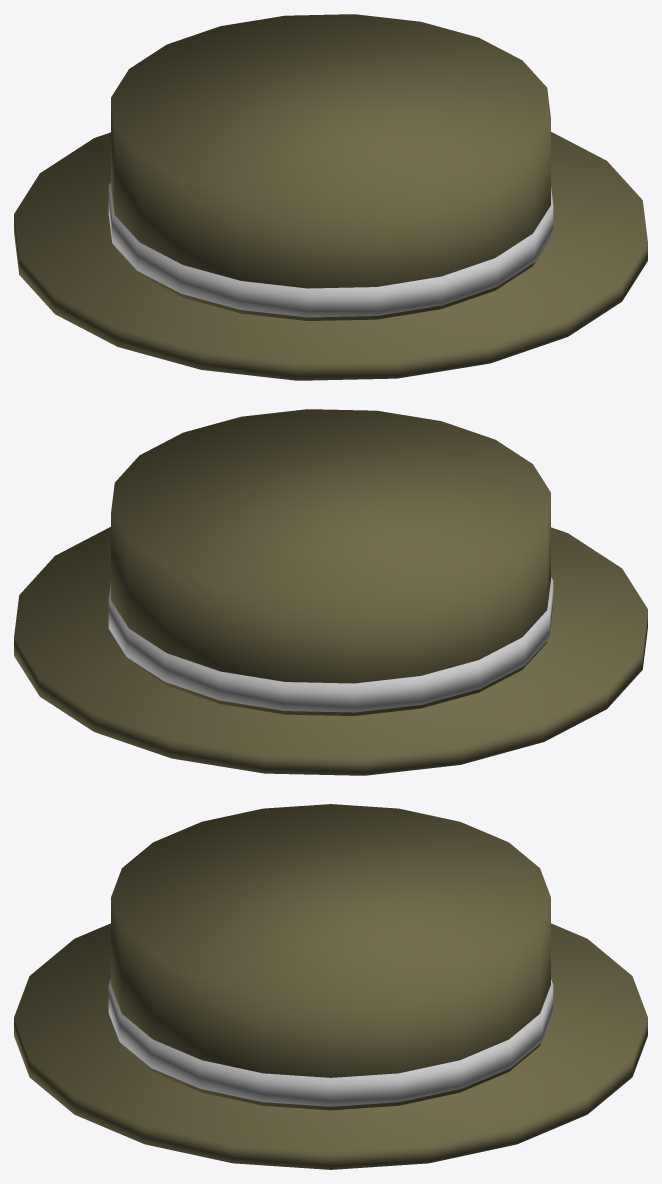
Rendered from Boonie_Red.fbx.
The picture shows the model from 3 angles, top to bottom: view 1: azimuth 30°, elevation 25°; view 2: azimuth 150°, elevation 25°; view 3: azimuth 270°, elevation 25°; orthographic projection.
Parts seen in each view (by area): view 1: Crown, Brim, TeamBand; view 2: Crown, Brim, TeamBand; view 3: Crown, Brim, TeamBand.
Part boxes in pixels (x1=…): Crown: x1=111, y1=14, x2=550, y2=320; Brim: x1=14, y1=132, x2=647, y2=380; TeamBand: x1=108, y1=182, x2=553, y2=317; Crown: x1=111, y1=409, x2=550, y2=715; Brim: x1=14, y1=527, x2=647, y2=775; TeamBand: x1=108, y1=577, x2=553, y2=712; Crown: x1=111, y1=804, x2=550, y2=1110; Brim: x1=14, y1=923, x2=647, y2=1169; TeamBand: x1=108, y1=979, x2=553, y2=1106.
Bounding box in the file's own units: 62 × 62 × 15.
